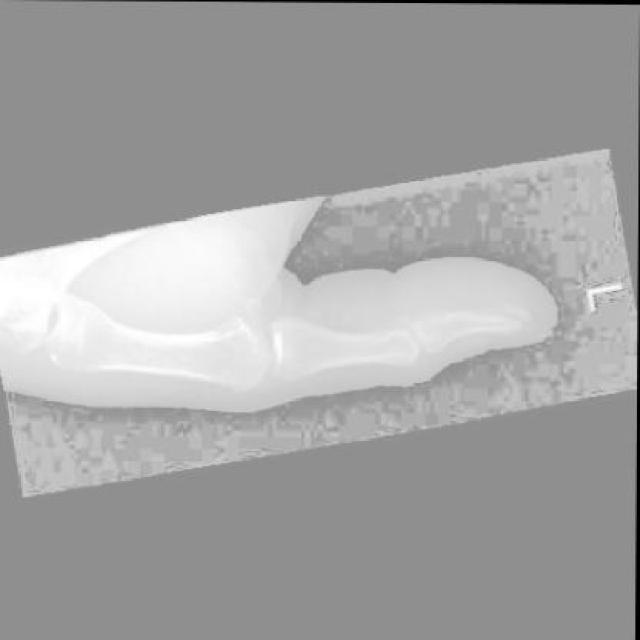Fracture: (488, 289, 545, 334), (400, 295, 438, 328)
